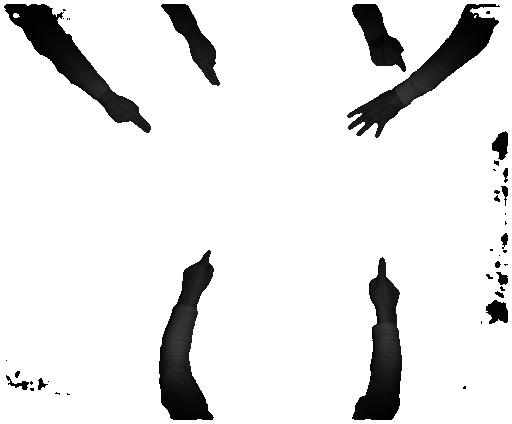hand: (344, 93, 403, 143), (365, 32, 409, 76), (104, 94, 151, 135), (176, 248, 215, 294), (368, 256, 399, 311), (191, 34, 223, 87)
